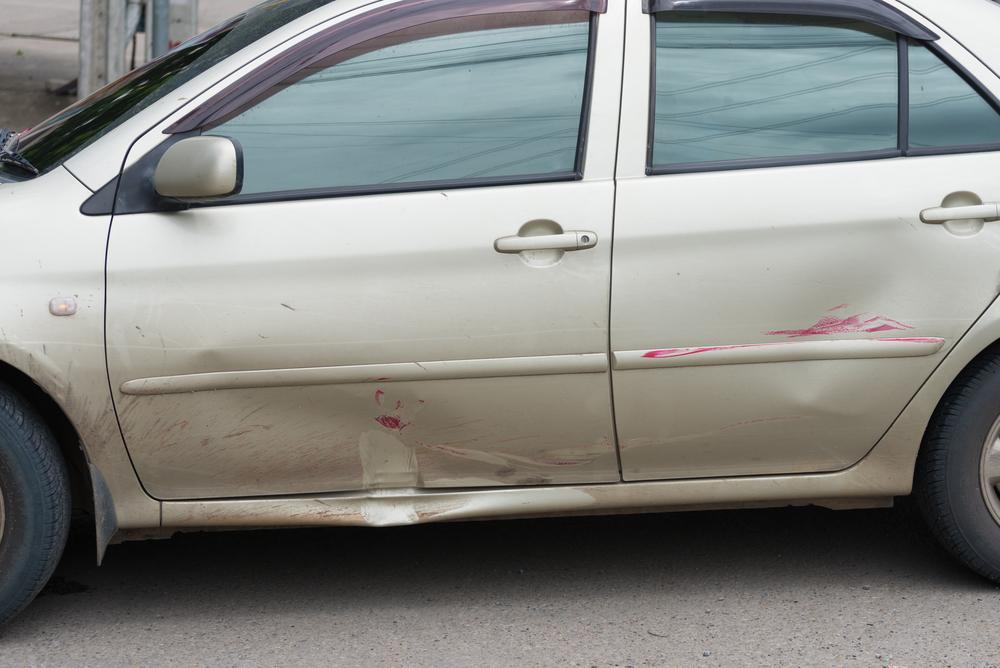dent: (170, 349, 466, 471), (770, 256, 906, 396), (353, 492, 466, 527)
scratch: (463, 434, 615, 488), (640, 341, 764, 361)
